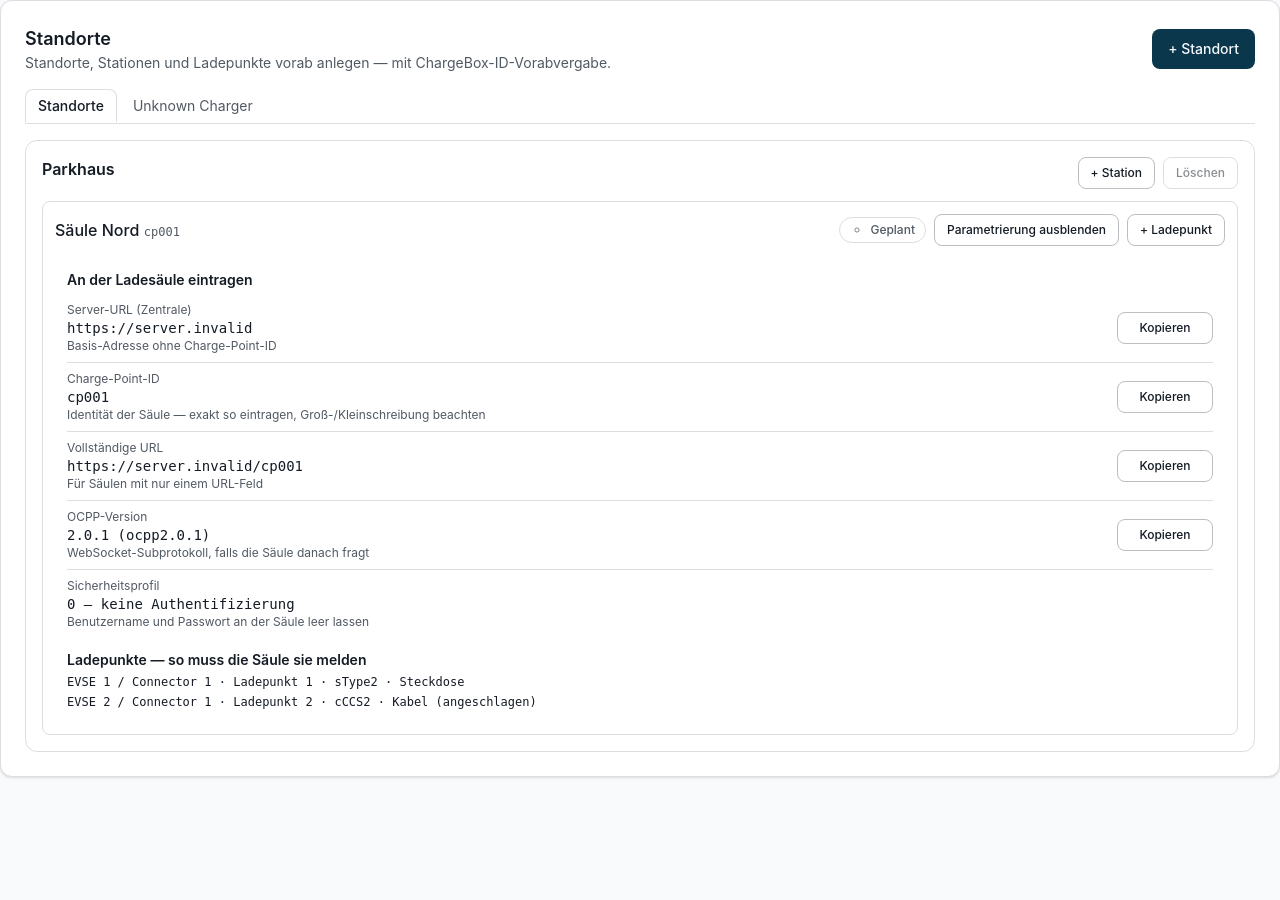
Test: LocationsPage station parameters › lists each connector once: in the panel while open, as a summary while closed
Expected: the number of list items "EVSE 1 / Connector 1 · Ladepunkt 1 · sType2 · Steckdose" is 1, [67,675,464,689]
Click the button "Parametrierung ausblenden".
click(1027, 230)  # box [934,214,1119,246]
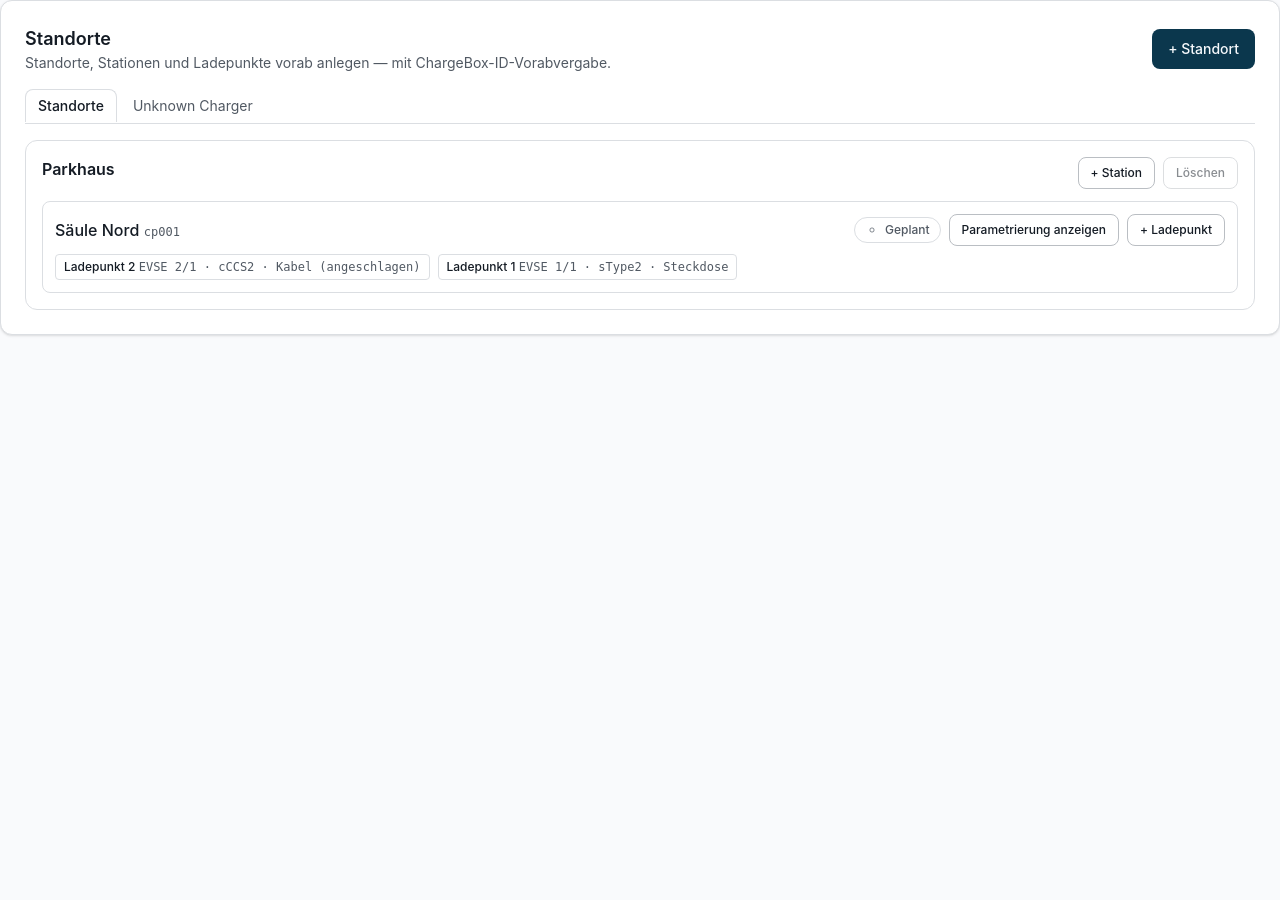
Expected: the heading "An der Ladesäule eintragen" is gone
Expected: the text "Ladepunkt 1" is shown once, [446,259,515,274]
